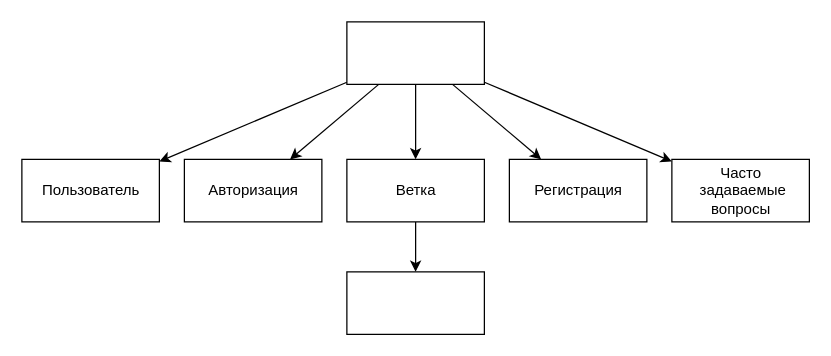
This 831x356 diagram has some shape labels left out. The shapes that lost their labels are listed below. From the top down, each one's centre as x and y in pixels, then its label:
At point (415, 52): "Главная страница".
At point (415, 302): "Создание ветки".
